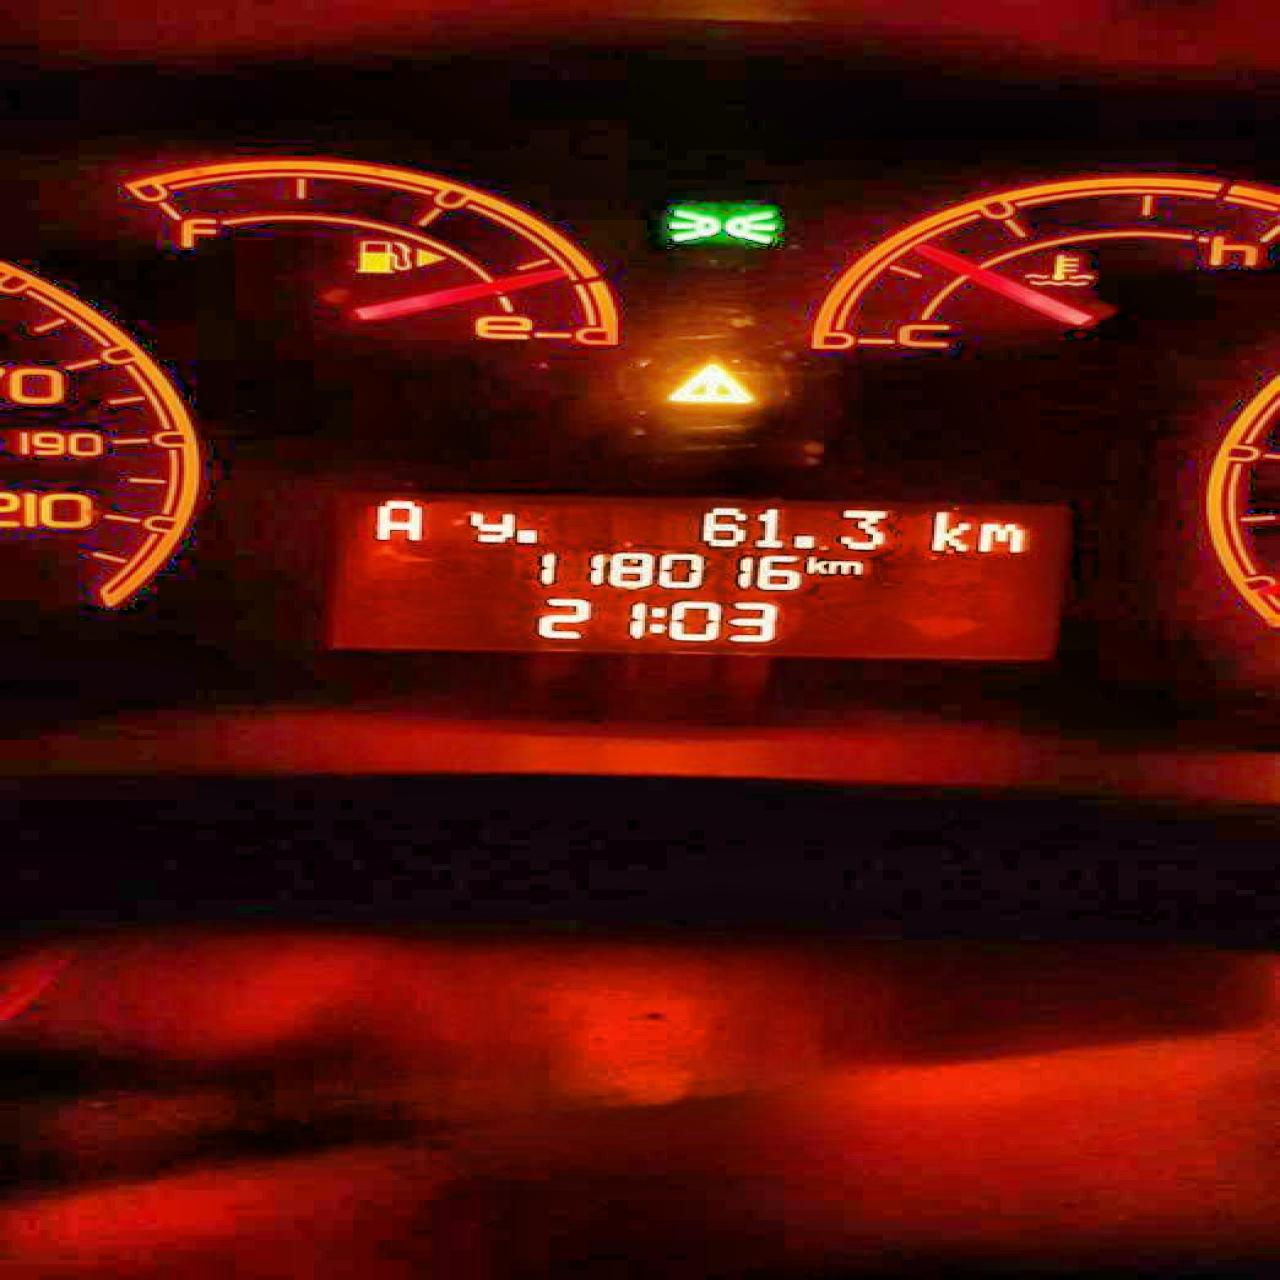-: (790, 531, 816, 550), (515, 528, 542, 544)
0: (667, 598, 721, 642), (654, 550, 704, 590)
1: (755, 505, 785, 549), (532, 548, 562, 584), (620, 598, 642, 642), (731, 551, 753, 591), (584, 550, 606, 586)
2: (537, 596, 593, 640)
3: (836, 505, 890, 553), (724, 598, 778, 642)
6: (696, 504, 748, 546), (758, 552, 799, 590)
8: (608, 548, 650, 588)
X: (372, 498, 427, 540), (927, 506, 968, 555), (976, 517, 1022, 555), (468, 508, 512, 542), (826, 559, 861, 575), (648, 604, 664, 635), (804, 553, 826, 575)
odometer: (324, 488, 1072, 662)
